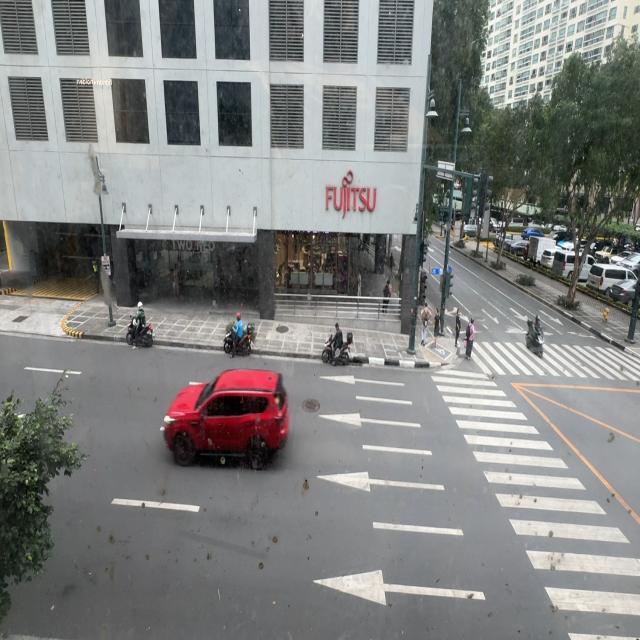pedestrain: (422, 304, 432, 347), (382, 280, 391, 314), (433, 308, 441, 346)
waiting: (465, 318, 474, 360), (455, 309, 461, 349)
